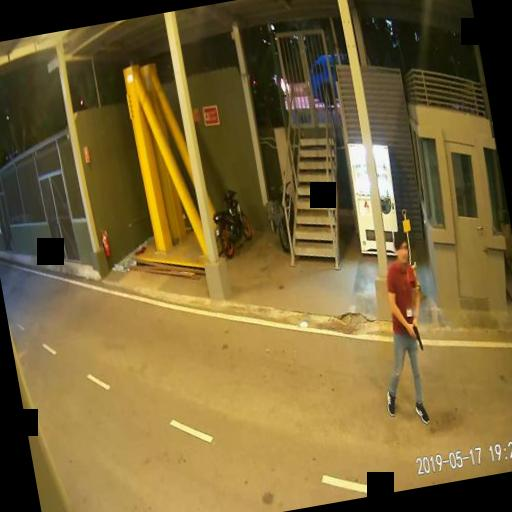Handgun: (407, 322, 421, 350)
